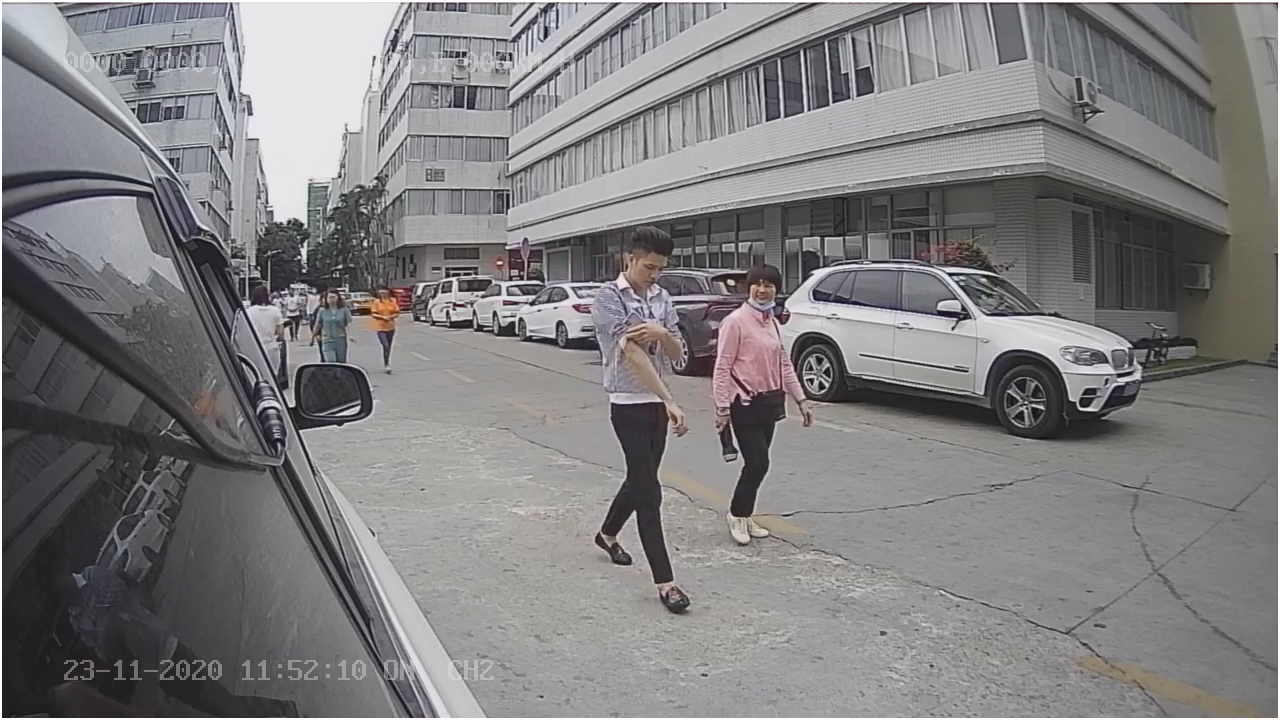person: (590, 217, 697, 612), (709, 260, 809, 546)
